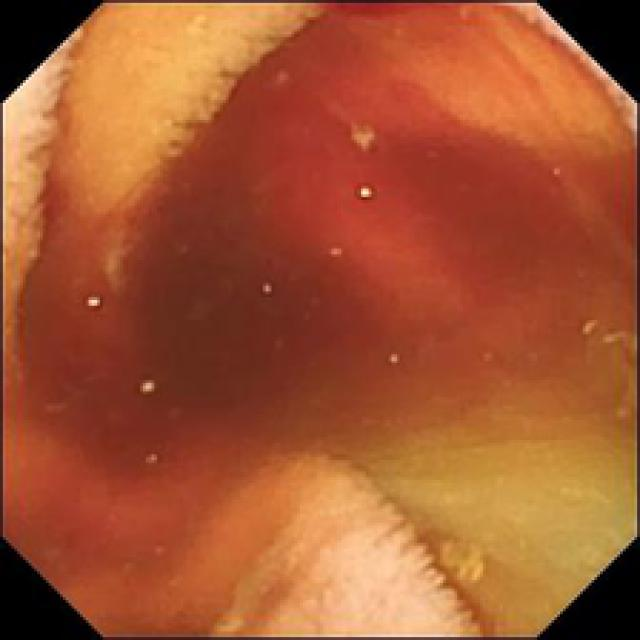bleeding: (22, 0, 638, 549), (38, 558, 248, 636)
